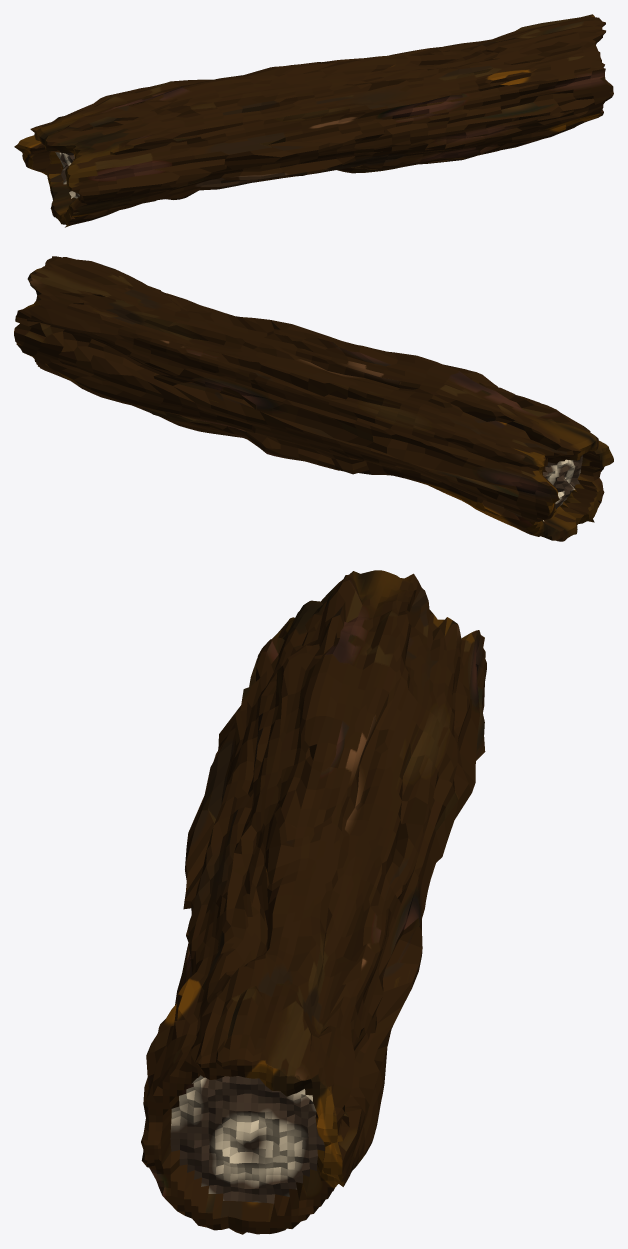
File: Big_Log_V3.fbx
3 renders of one model, top to bottom at view 1: azimuth 30°, elevation 25°; view 2: azimuth 150°, elevation 25°; view 3: azimuth 270°, elevation 25°, orthographic. The views are drawn at different scales.
Visible parts, largest first — view 1: Log.016; view 2: Log.016; view 3: Log.016.
Boxes of the visible parts, x1=… form: Log.016: x1=14, y1=14, x2=613, y2=227; Log.016: x1=14, y1=256, x2=613, y2=541; Log.016: x1=141, y1=570, x2=486, y2=1234.
Size of the model in its own units: 283 by 62.48 by 79.76.
Materials: 2 (2 with a texture image).
